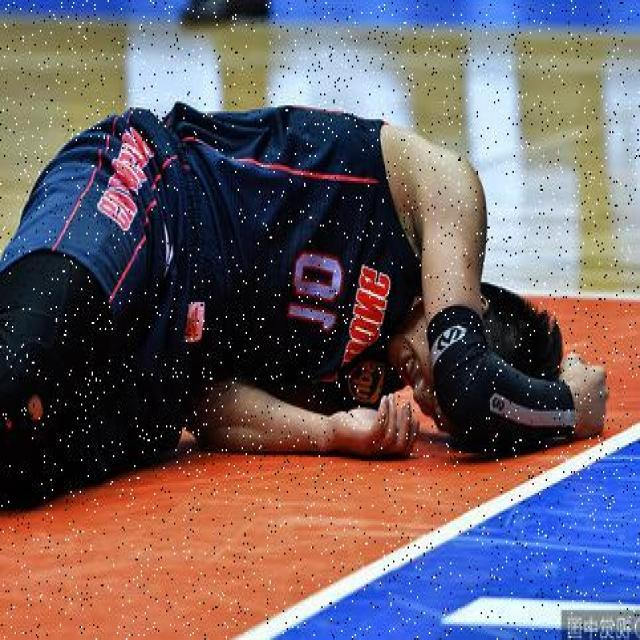fall: (1, 101, 598, 501)
